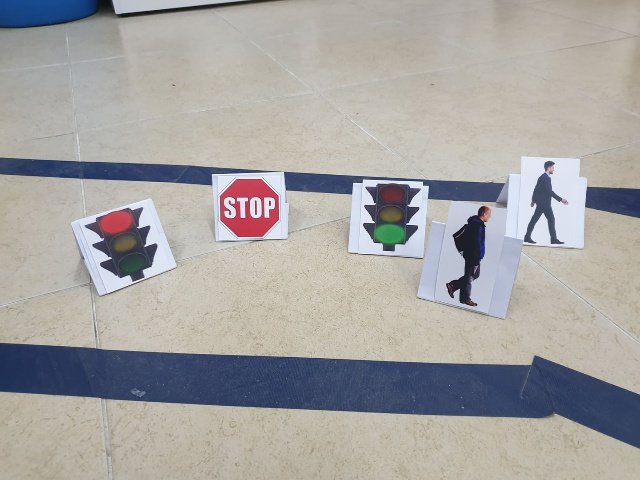Green: (358, 177, 421, 257)
Person: (447, 200, 488, 310), (524, 158, 571, 249)
Red: (88, 210, 160, 280)
Stop: (214, 173, 282, 239)
